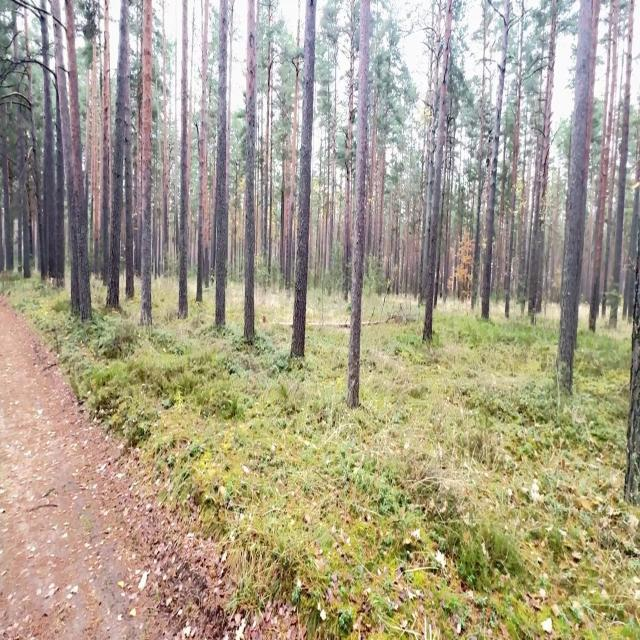trees: (557, 0, 598, 391), (423, 0, 452, 342), (347, 0, 370, 407), (589, 5, 617, 331), (291, 0, 316, 357), (482, 0, 510, 318), (51, 0, 79, 313), (529, 0, 556, 323), (65, 0, 91, 321), (609, 0, 634, 327), (505, 9, 523, 318), (107, 0, 125, 308), (372, 31, 393, 273), (471, 0, 487, 309), (602, 89, 621, 318), (421, 67, 439, 307), (523, 72, 541, 312), (215, 0, 228, 325), (244, 0, 256, 343), (343, 0, 356, 301), (625, 226, 639, 504), (196, 0, 208, 302), (27, 66, 44, 279), (140, 0, 151, 325), (178, 0, 188, 318), (434, 114, 450, 309), (286, 59, 298, 291), (124, 31, 134, 298), (43, 75, 56, 277), (101, 0, 110, 284), (17, 104, 30, 278), (0, 107, 13, 271), (54, 96, 64, 287), (328, 72, 337, 271), (262, 44, 270, 259), (162, 0, 168, 274), (91, 38, 98, 272), (268, 91, 273, 279), (280, 157, 284, 274)
